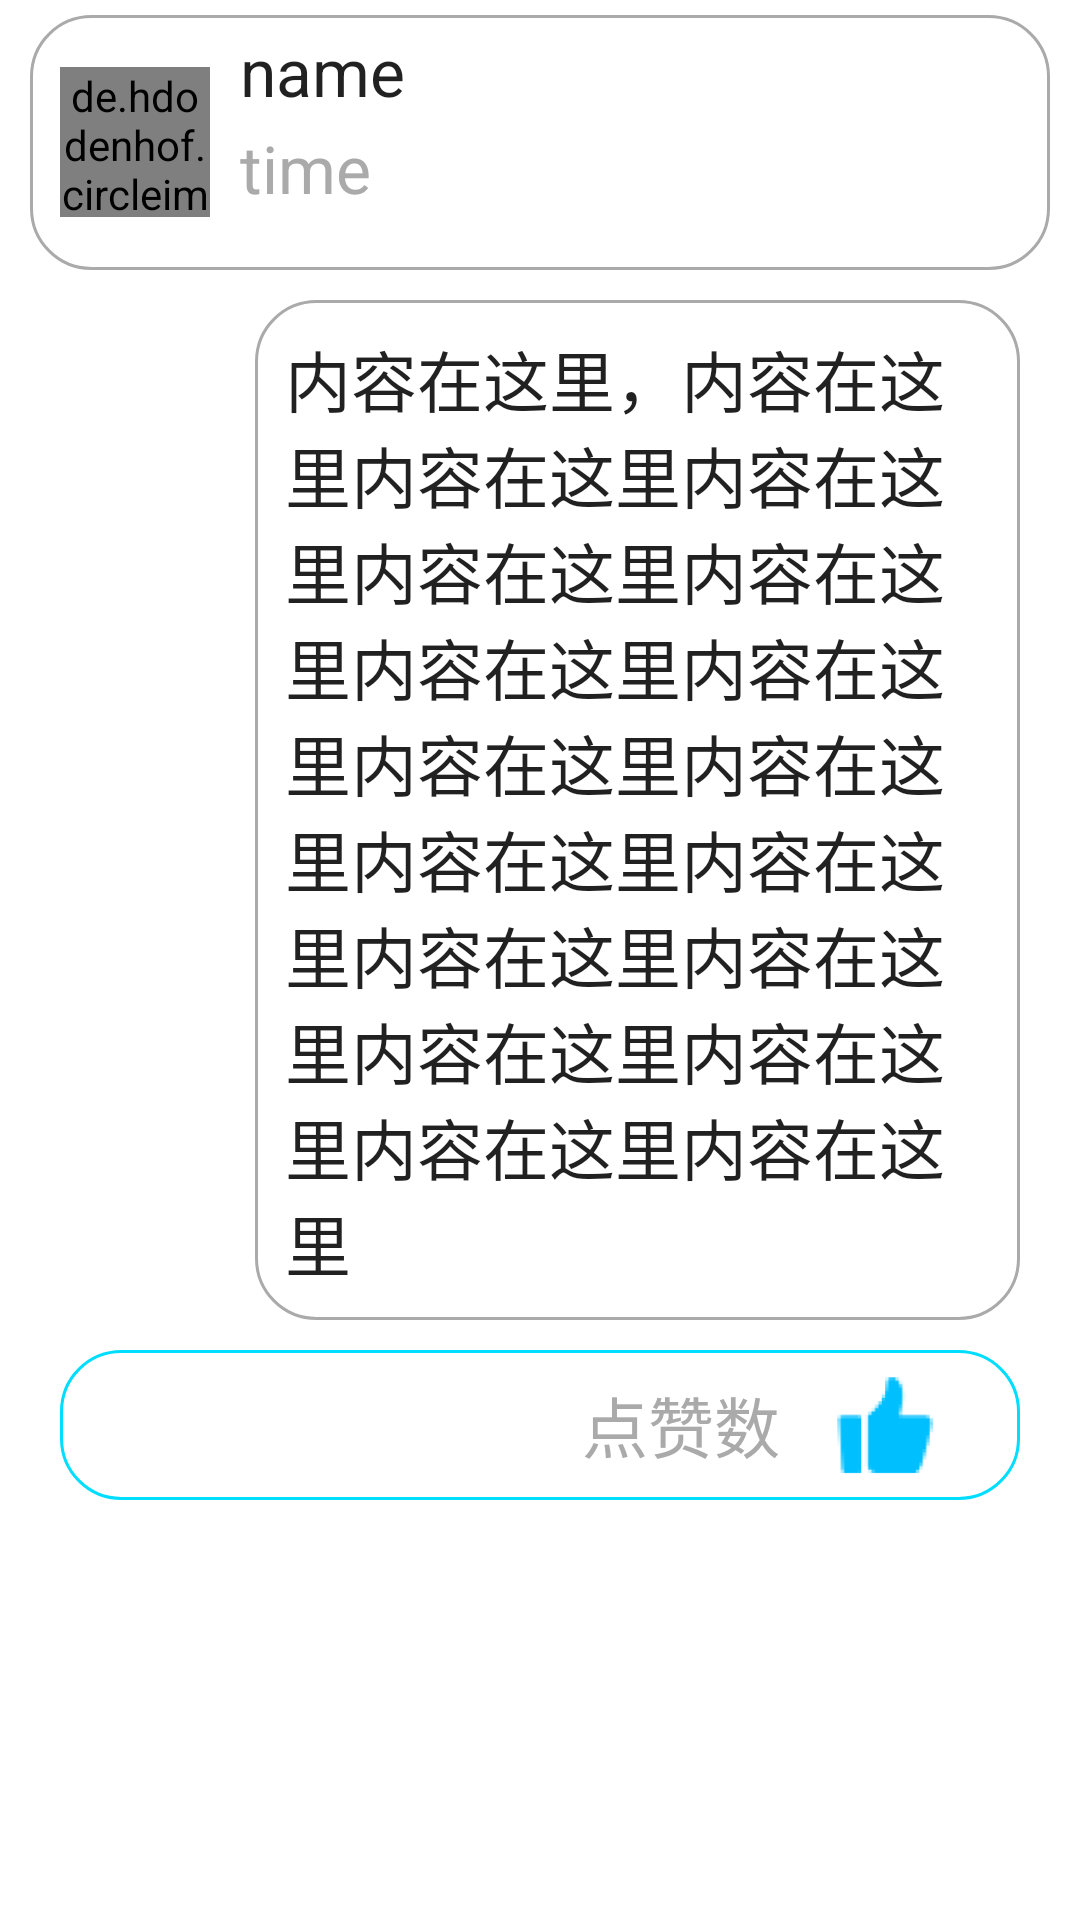

Named icons in this screenshot (1080×1920) and their bounding boxes, region(x1, y1, x2, y2):
like: region(837, 1377, 933, 1474)
